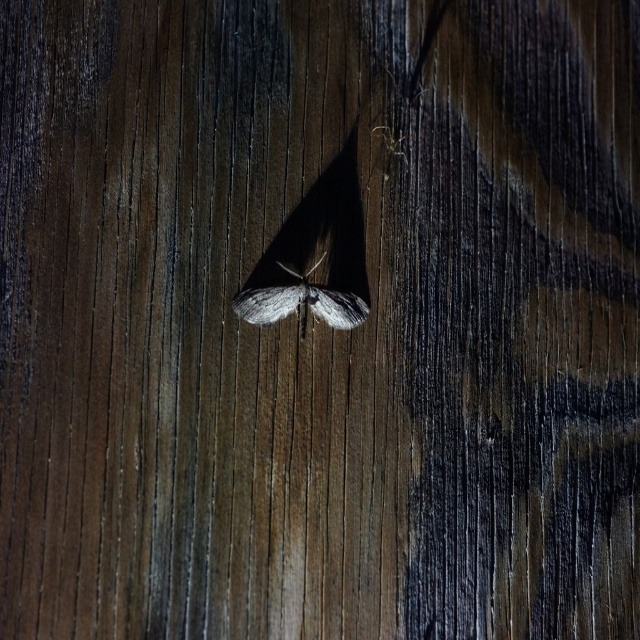Moths and butterflies: (233, 252, 374, 345)
